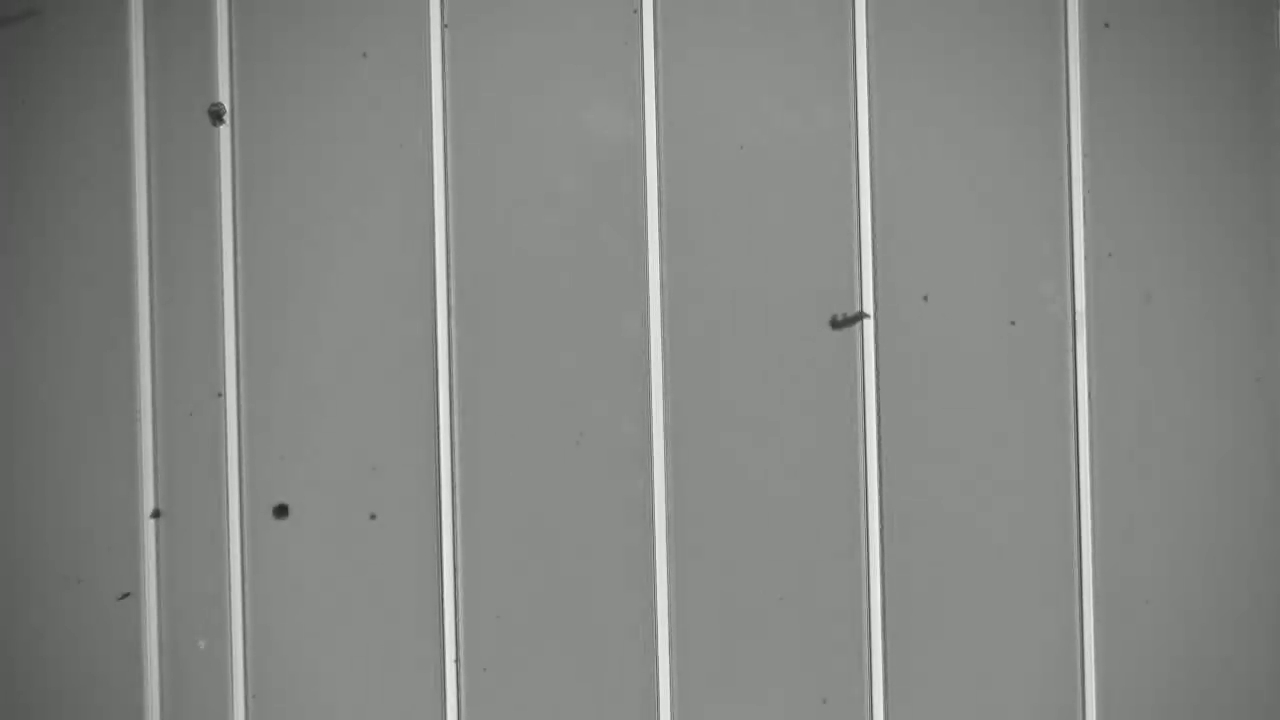stains_enbedded: (199, 88, 239, 132), (134, 501, 176, 531)
